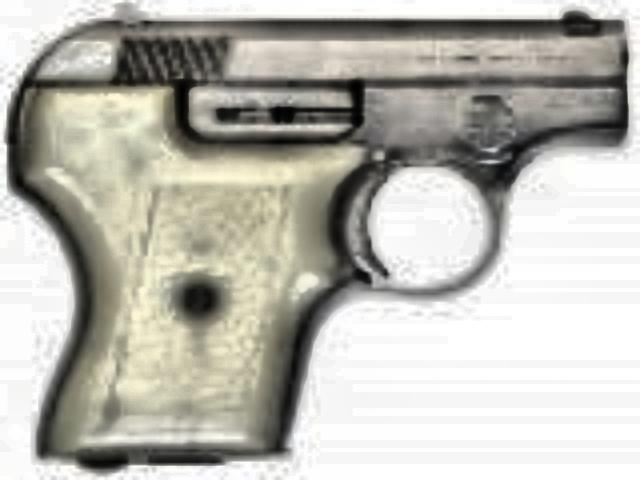pistol: (12, 4, 612, 460)
